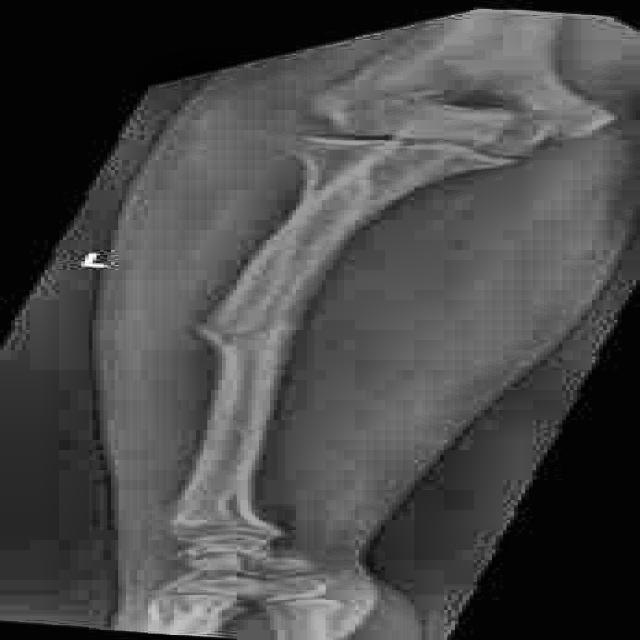forearm fracture: (136, 307, 343, 383)
